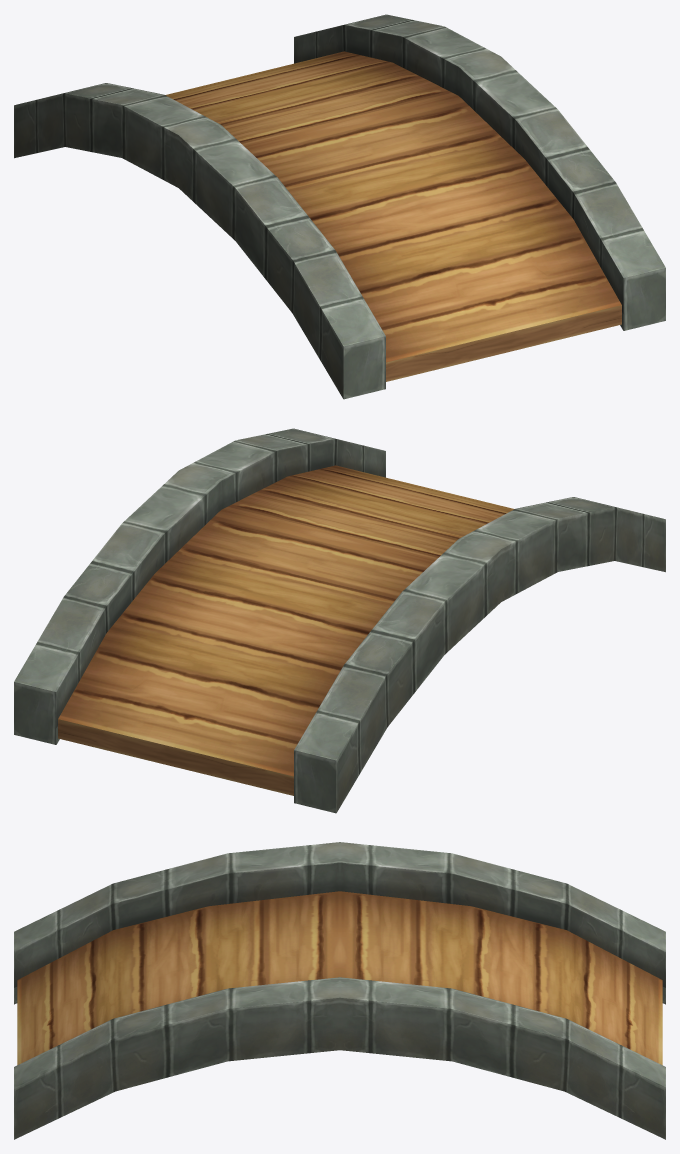
Rendered from bridge_03a.fbx.
The picture shows the model from 3 angles, top to bottom: view 1: azimuth 30°, elevation 25°; view 2: azimuth 150°, elevation 25°; view 3: azimuth 270°, elevation 25°; orthographic projection.
Parts seen in each view (by area): view 1: bridge_03a; view 2: bridge_03a; view 3: bridge_03a.
Part boxes in pixels (left/top/right/bottom): bridge_03a: left=14, top=14, right=665, bottom=399; bridge_03a: left=14, top=428, right=665, bottom=813; bridge_03a: left=14, top=842, right=665, bottom=1139.
Size of the model in its own units: 2.37 by 1.01 by 4.19.
